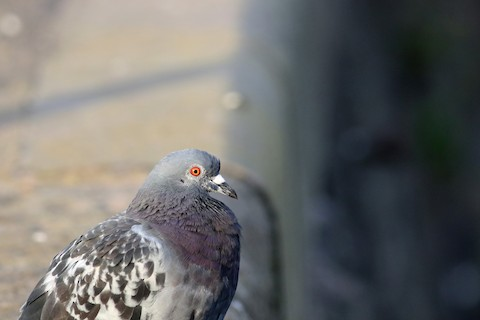pigeon: (12, 145, 250, 311)
